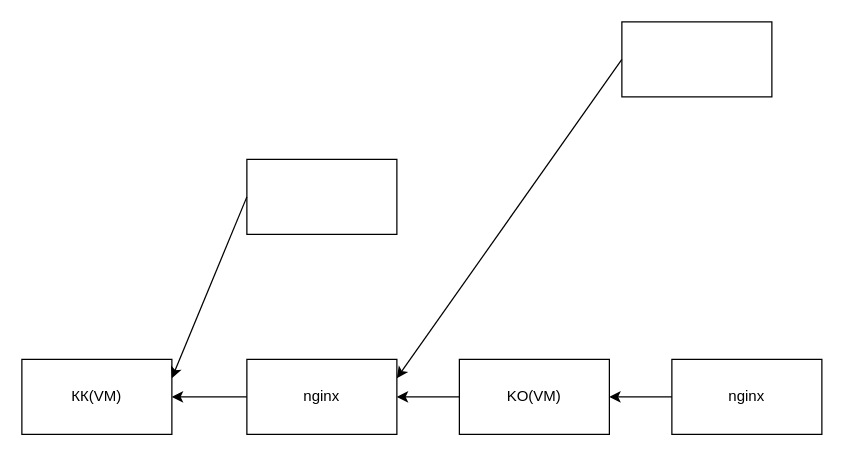
This 844x456 diagram has some shape labels left out. The shapes that lost their labels are listed below. From the top down, each one's centre as x and y in pixels, then its label:
At pixel 696 59: "КО ЮЛ".
At pixel 321 196: "LB(HA)".
